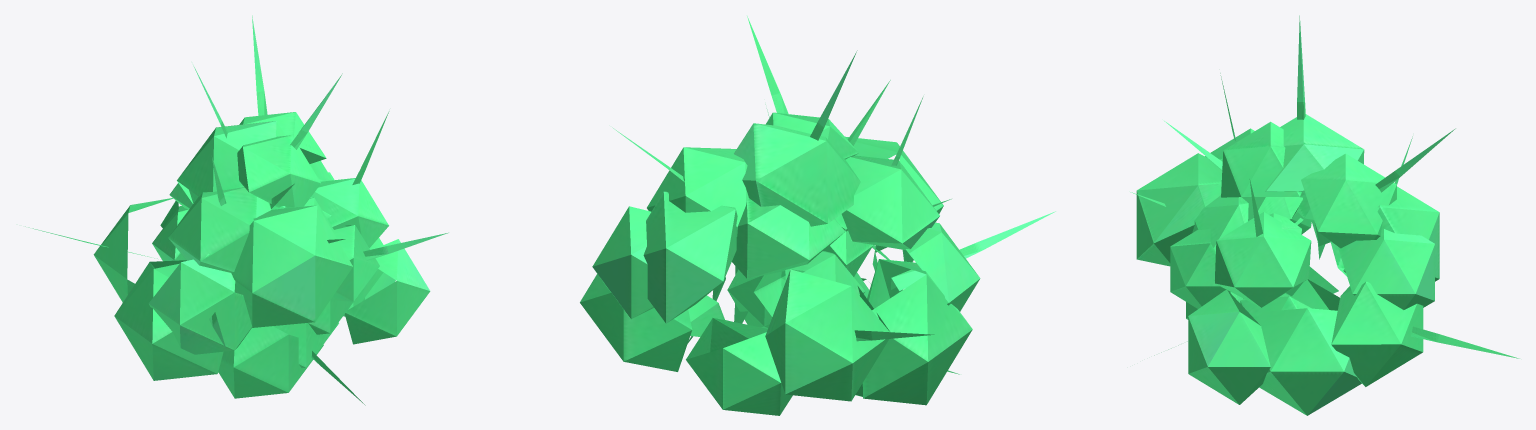
The model's file is ATT_Grass_Thrall_A_v01.glb.
3 views of the same model, side by side, from view 1: azimuth 30°, elevation 25°; view 2: azimuth 150°, elevation 25°; view 3: azimuth 270°, elevation 25° (orthographic). The views are drawn at different scales.
Visible parts, largest first — view 1: ATT_Grass_Shoulder_R_A, ATT_Grass_Back_A, ATT_Grass_Head_A, ATT_Grass_Shoulder_L_A, ATT_Grass_Chest_A, ATT_Grass_Leg_L_A, ATT_Grass_Leg_R_A; view 2: ATT_Grass_Shoulder_R_A, ATT_Grass_Chest_A, ATT_Grass_Head_A, ATT_Grass_Shoulder_L_A, ATT_Grass_Back_A, ATT_Grass_Leg_L_A, ATT_Grass_Leg_R_A; view 3: ATT_Grass_Shoulder_L_A, ATT_Grass_Chest_A, ATT_Grass_Head_A, ATT_Grass_Shoulder_R_A, ATT_Grass_Back_A, ATT_Grass_Leg_L_A, ATT_Grass_Leg_R_A.
Boxes of the visible parts, x1,y1,x2,y2 form: ATT_Grass_Shoulder_R_A: [25, 65, 352, 380]; ATT_Grass_Back_A: [148, 183, 430, 398]; ATT_Grass_Head_A: [168, 111, 389, 272]; ATT_Grass_Shoulder_L_A: [237, 73, 448, 316]; ATT_Grass_Chest_A: [152, 15, 334, 261]; ATT_Grass_Leg_L_A: [273, 197, 383, 405]; ATT_Grass_Leg_R_A: [205, 253, 356, 334]; ATT_Grass_Shoulder_R_A: [734, 50, 972, 405]; ATT_Grass_Chest_A: [580, 127, 865, 415]; ATT_Grass_Head_A: [592, 96, 939, 318]; ATT_Grass_Shoulder_L_A: [643, 16, 858, 342]; ATT_Grass_Back_A: [725, 80, 1055, 396]; ATT_Grass_Leg_L_A: [688, 266, 869, 336]; ATT_Grass_Leg_R_A: [824, 199, 959, 374]; ATT_Grass_Shoulder_L_A: [1170, 121, 1439, 415]; ATT_Grass_Chest_A: [1301, 128, 1519, 386]; ATT_Grass_Head_A: [1205, 73, 1434, 309]; ATT_Grass_Shoulder_R_A: [1136, 15, 1412, 293]; ATT_Grass_Back_A: [1164, 121, 1302, 404]; ATT_Grass_Leg_L_A: [1130, 192, 1312, 355]; ATT_Grass_Leg_R_A: [1186, 211, 1311, 319].
Size of the model in its own units: 0.2462 by 0.2244 by 0.2654.
Materials: 1 (1 with a texture image).
